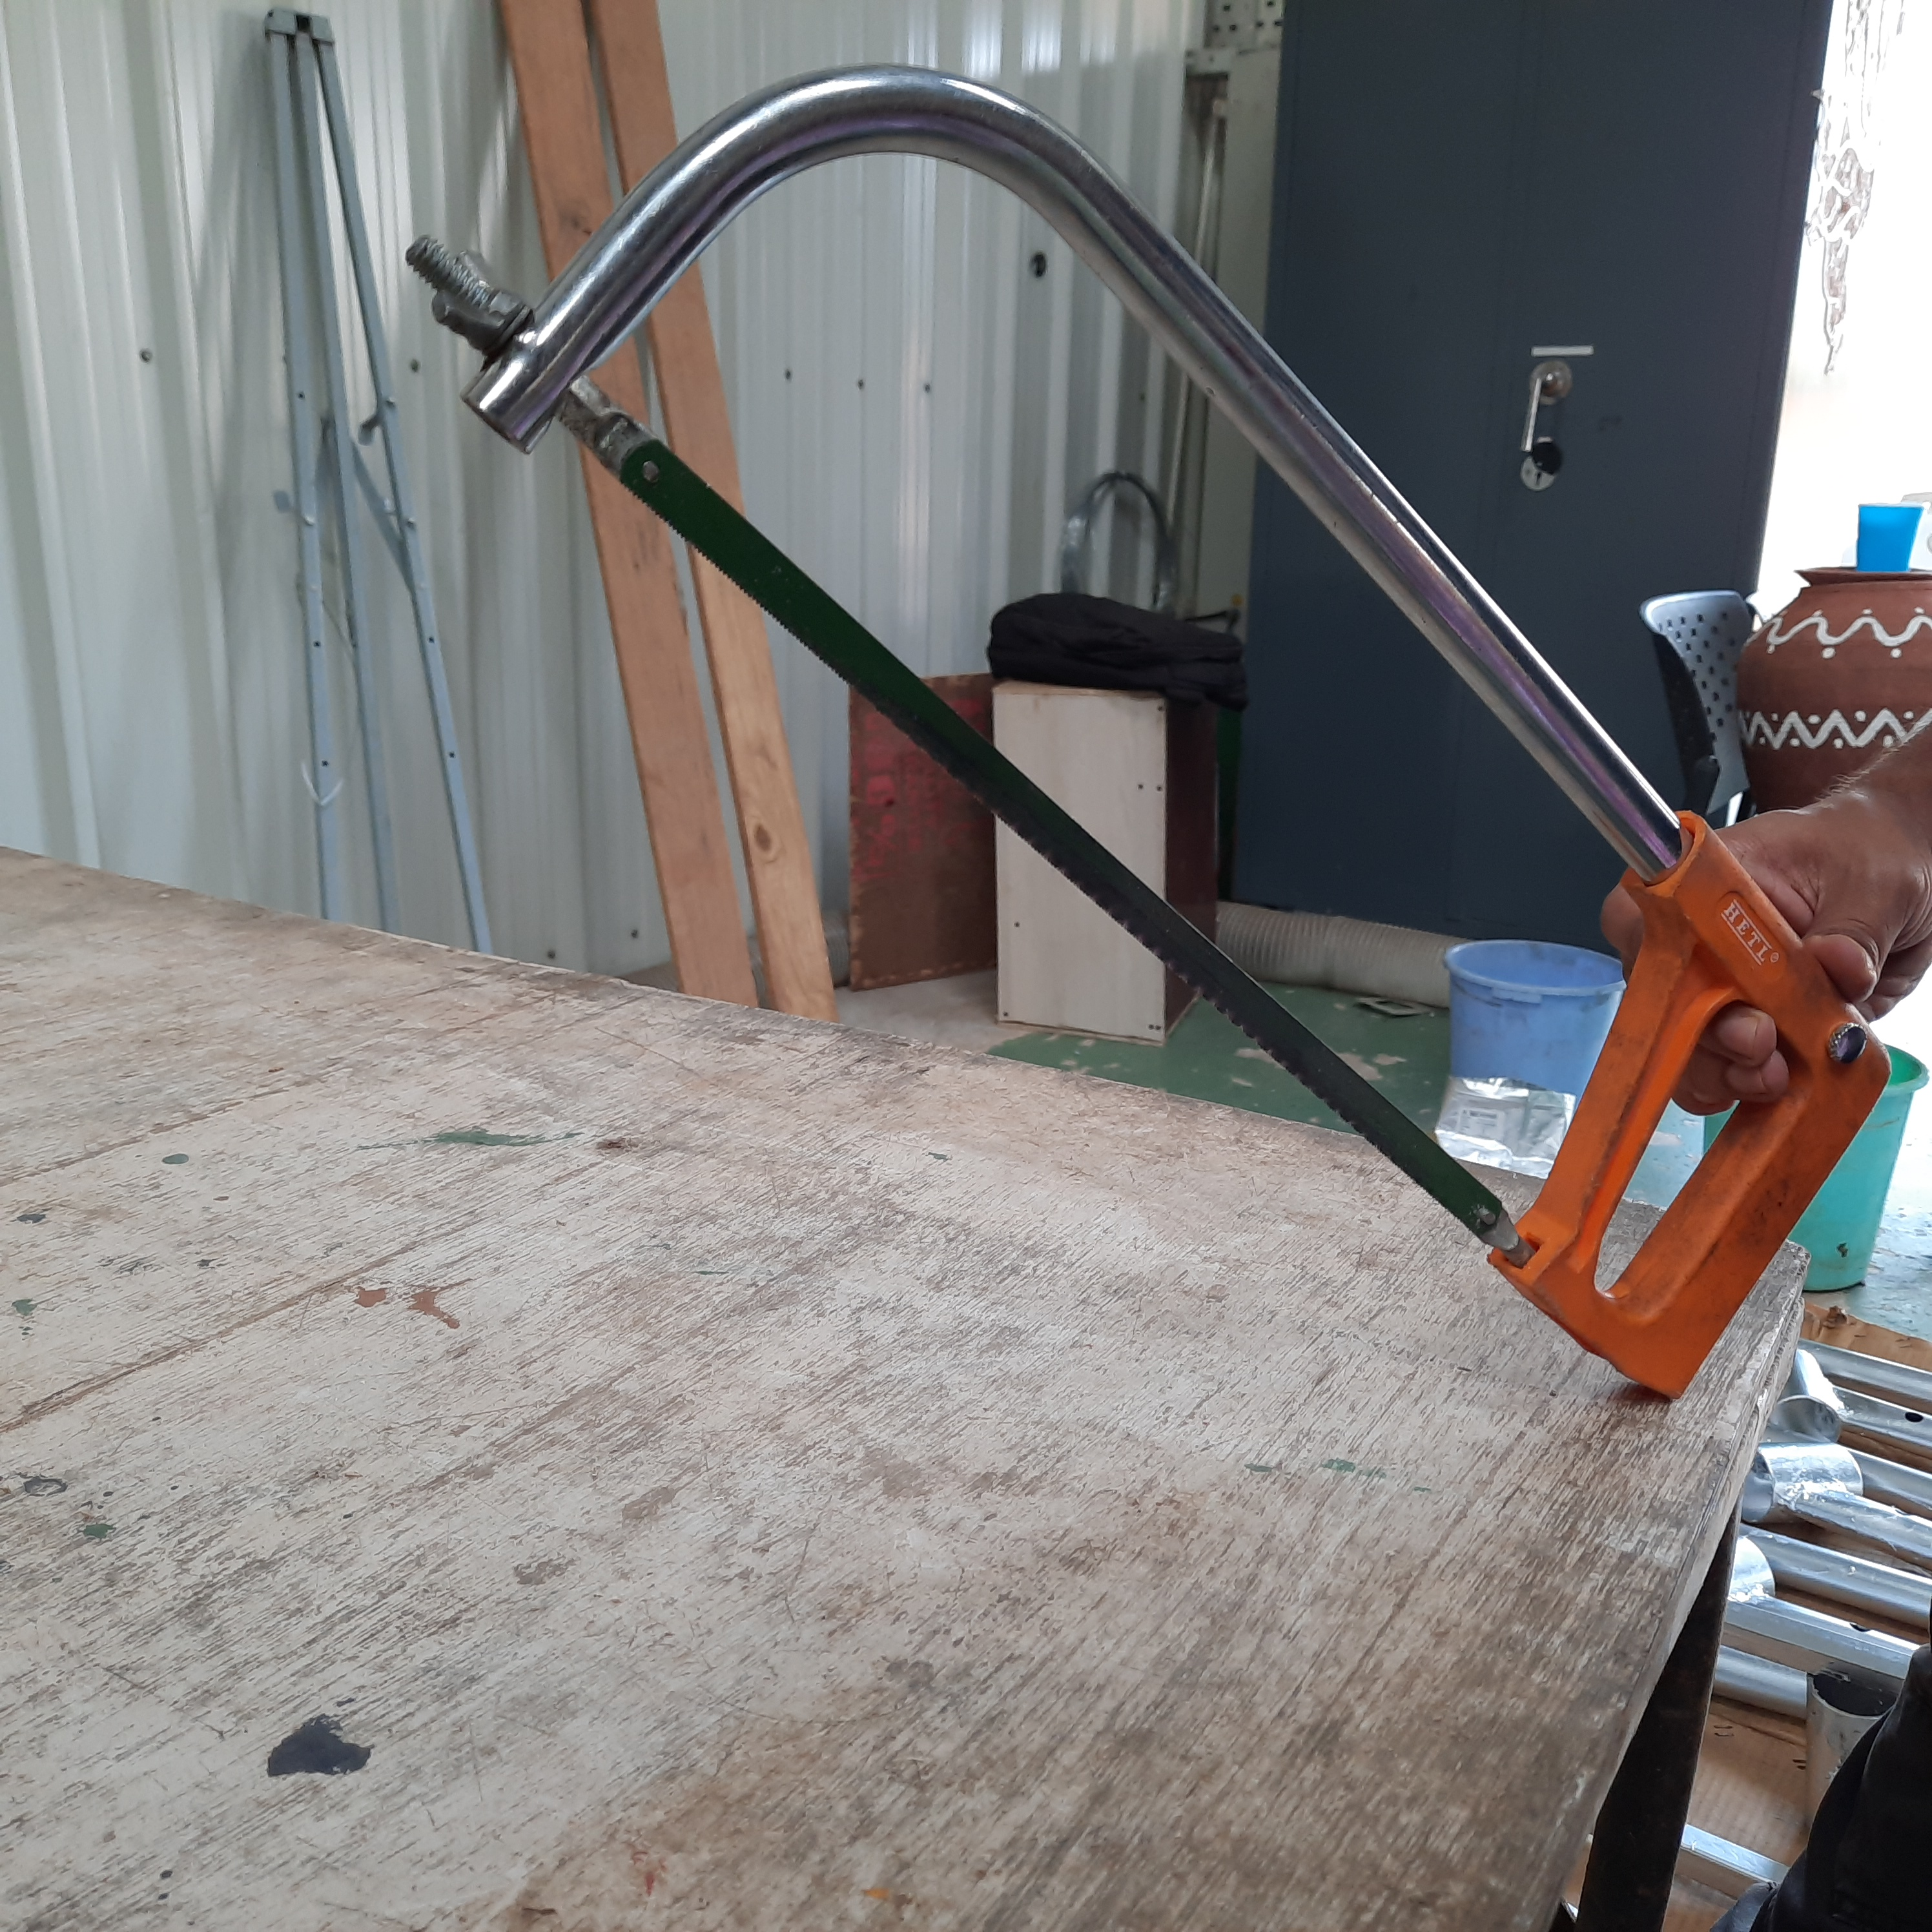Hexaframe: (386, 44, 1914, 1454)
